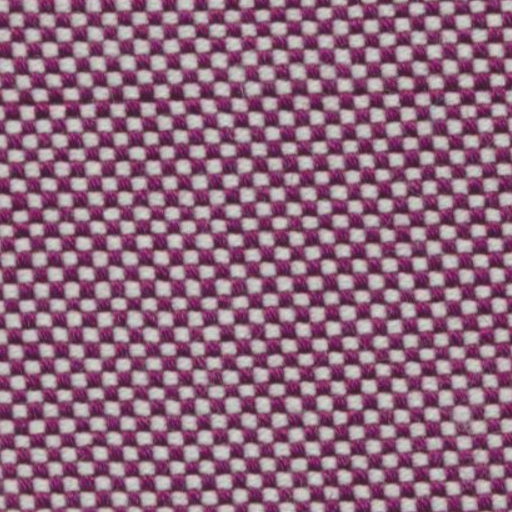TuoSha: (20, 68, 490, 140)
